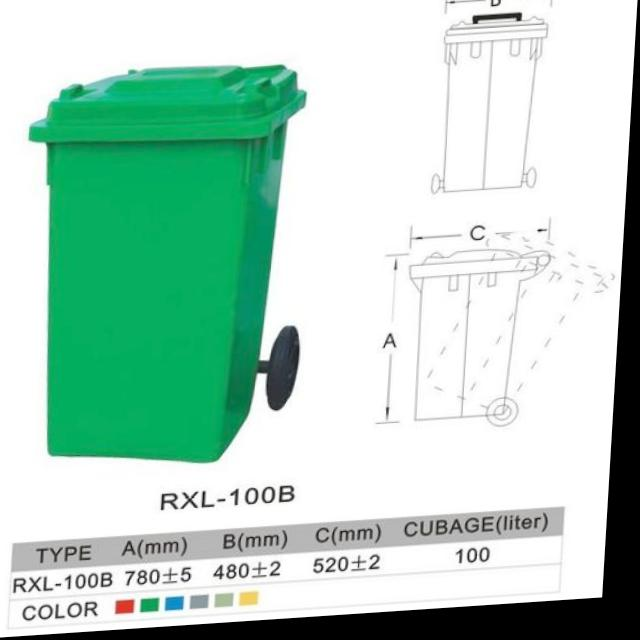garbage_bin: (14, 63, 307, 476)
